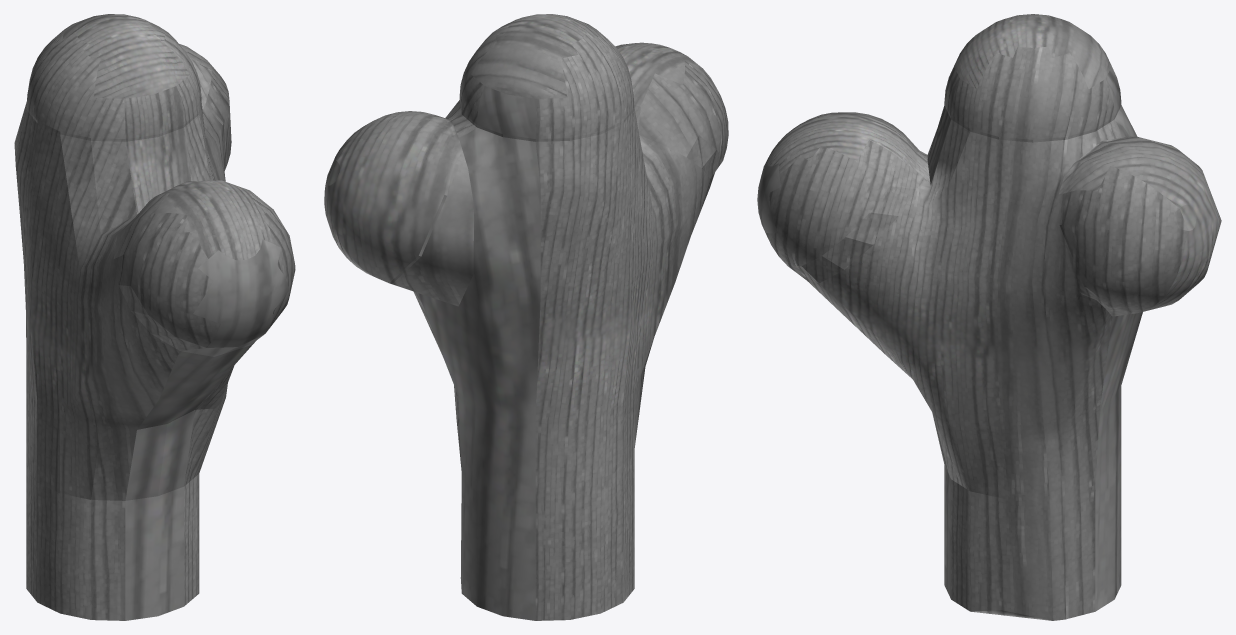
The model's file is Cactus.obj.
3 renders of one model, left to right at view 1: azimuth 30°, elevation 25°; view 2: azimuth 150°, elevation 25°; view 3: azimuth 270°, elevation 25°, orthographic.
Parts seen in each view (by area): view 1: pSphere6; view 2: pSphere6; view 3: pSphere6.
Boxes of the visible parts, x1,y1,x2,y2 form: pSphere6: (14,14,295,620); pSphere6: (324,14,728,620); pSphere6: (757,14,1221,620).
Size of the model in its own units: 160 by 351 by 262.
1 material, 1 textured.
